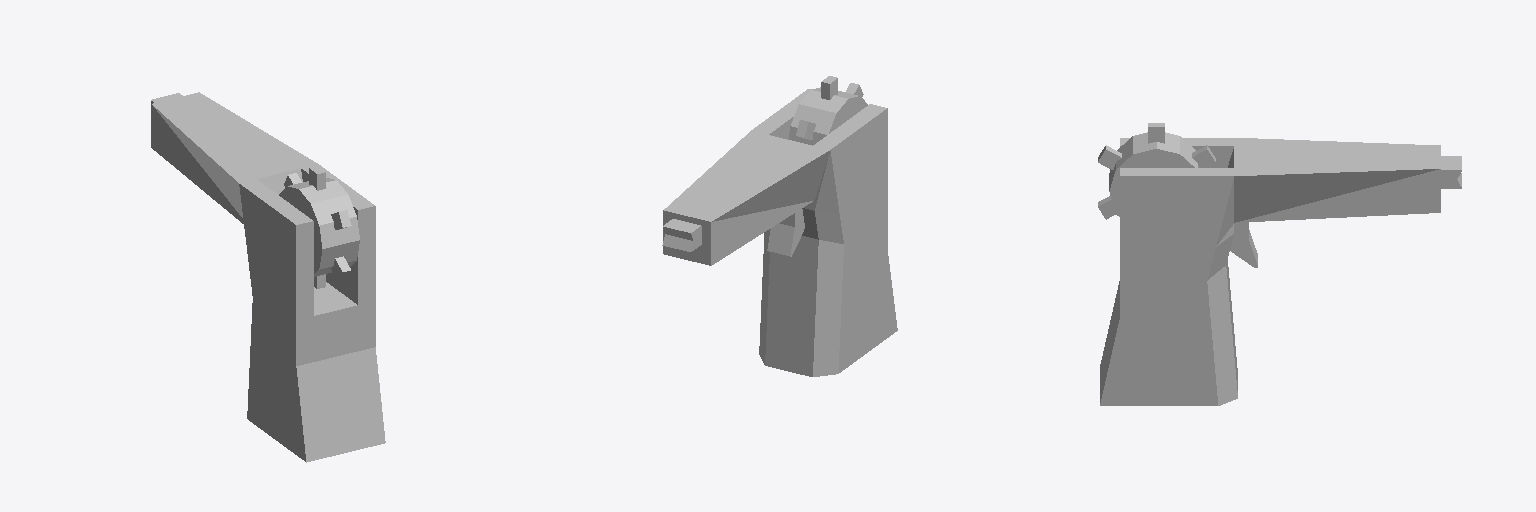
Rendered from rubber gun.obj.
3 views of the same model, side by side, from view 1: azimuth 30°, elevation 25°; view 2: azimuth 150°, elevation 25°; view 3: azimuth 270°, elevation 25° (orthographic).
Visible parts, largest first — view 1: Plane; view 2: Plane; view 3: Plane.
Part boxes in pixels (x1,y1,x2,y2): Plane: (151,92,385,462); Plane: (662,76,897,376); Plane: (1098,123,1461,405).
Size of the model in its own units: 0.04 by 0.1262 by 0.1593.